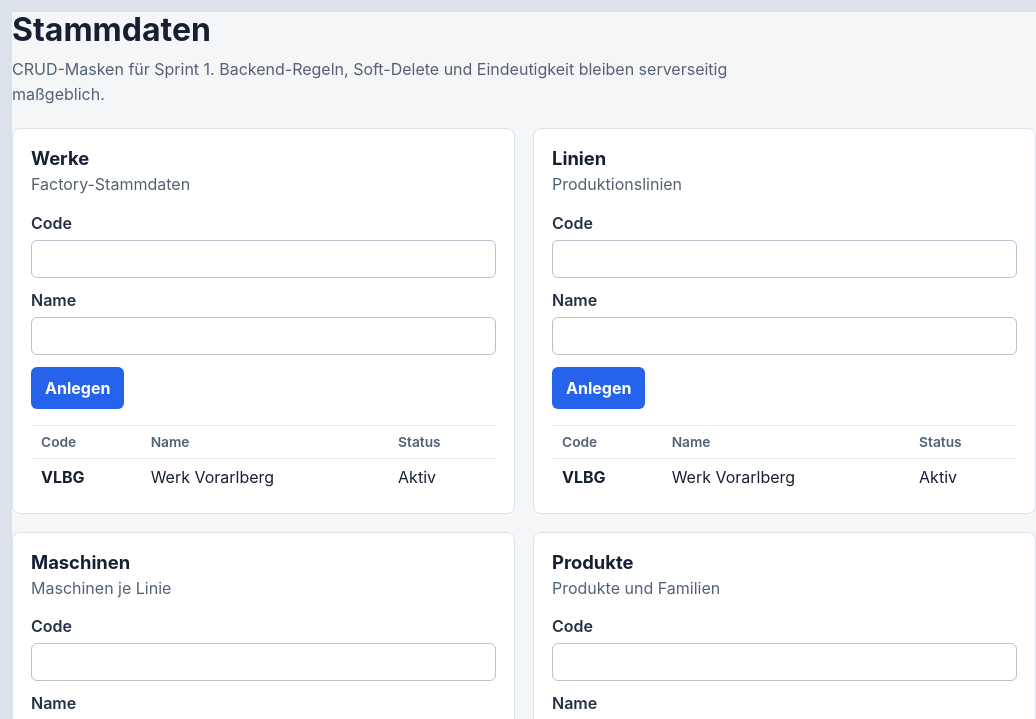
it: Sprint 1 master-data UI › validates code and name before creating a record
The image size is (1036, 719).
Click the button "Anlegen" below "Factory-Stammdaten": (78,388) top-left (31, 367), bottom-right (124, 409)
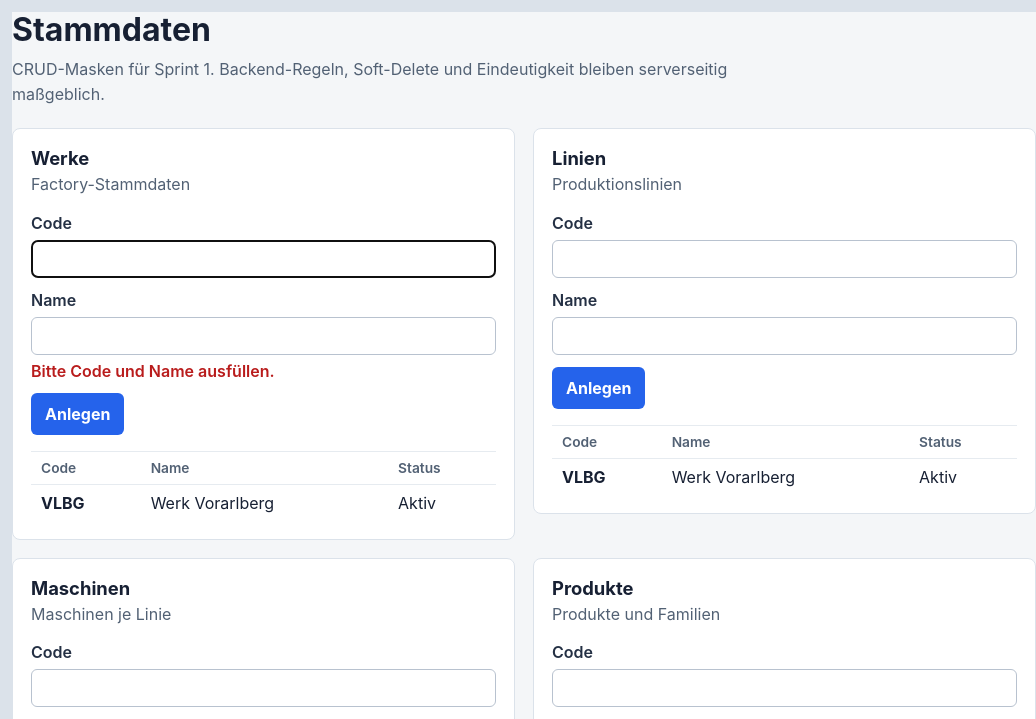
Expected: the text "Bitte Code und Name ausfüllen." is shown, top-left (31, 361), bottom-right (275, 381)
